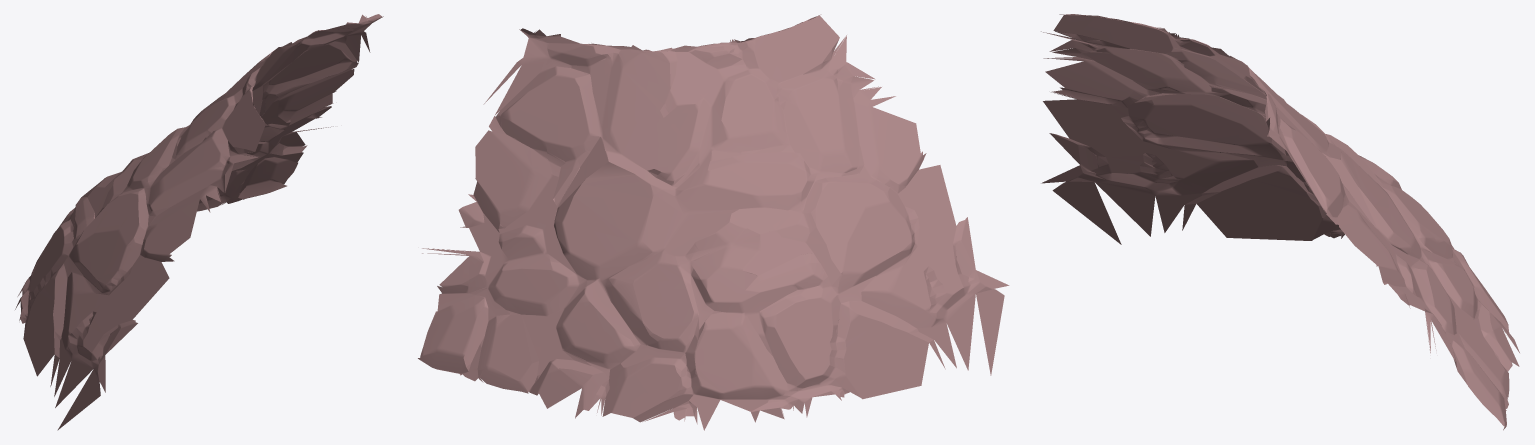
File: plateau.fbx_Rock_Plateau_025LODs.fbx
3 renders of one model, left to right at view 1: azimuth 30°, elevation 25°; view 2: azimuth 150°, elevation 25°; view 3: azimuth 270°, elevation 25°, orthographic. The views are drawn at different scales.
Parts seen in each view (by area): view 1: Rock Plateau.025_LOD0; view 2: Rock Plateau.025_LOD0; view 3: Rock Plateau.025_LOD0.
Boxes of the visible parts, left/top/right/bottom form: Rock Plateau.025_LOD0: left=15, top=14, right=383, bottom=430; Rock Plateau.025_LOD0: left=418, top=14, right=1009, bottom=430; Rock Plateau.025_LOD0: left=1041, top=14, right=1519, bottom=430.
Size of what is drawn, in the model's own units: 5269 by 3399 by 4281.
